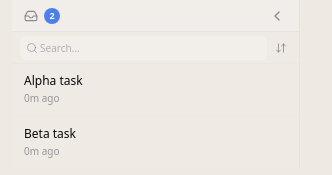
Test: ScratchPool › search shows No matches when nothing matches
Type "zzz" into the field named "Search scratches" at {"x": 144, "y": 48}, box [20, 36, 267, 60]
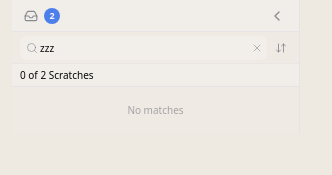
Expected: the button "Alpha task" is gone
Expected: the button "Beta task" is gone
